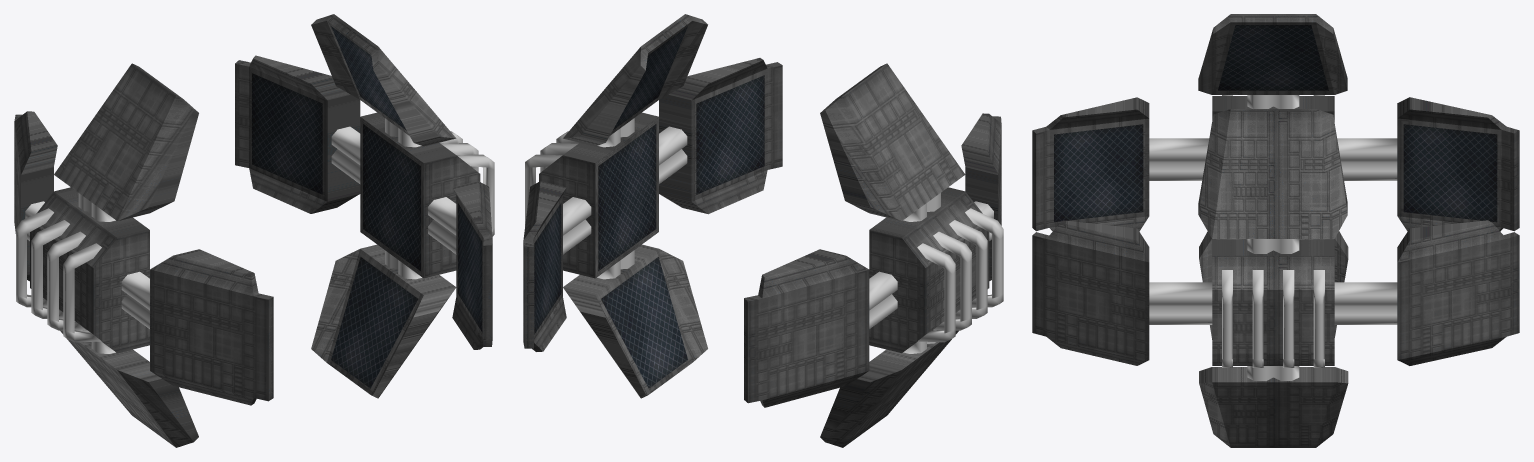
The model's file is Farcaster.fbx.
The picture shows the model from 3 angles, left to right: view 1: azimuth 30°, elevation 25°; view 2: azimuth 150°, elevation 25°; view 3: azimuth 270°, elevation 25°; orthographic projection. The views are drawn at different scales.
Parts seen in each view (by area): view 1: Farcaster; view 2: Farcaster; view 3: Farcaster.
Part boxes in pixels (<box>): Farcaster: <box>14,14,494,447</box>; Farcaster: <box>523,14,1003,447</box>; Farcaster: <box>1032,14,1519,447</box>.
Bounding box in the file's own units: 497 × 391 × 509.
